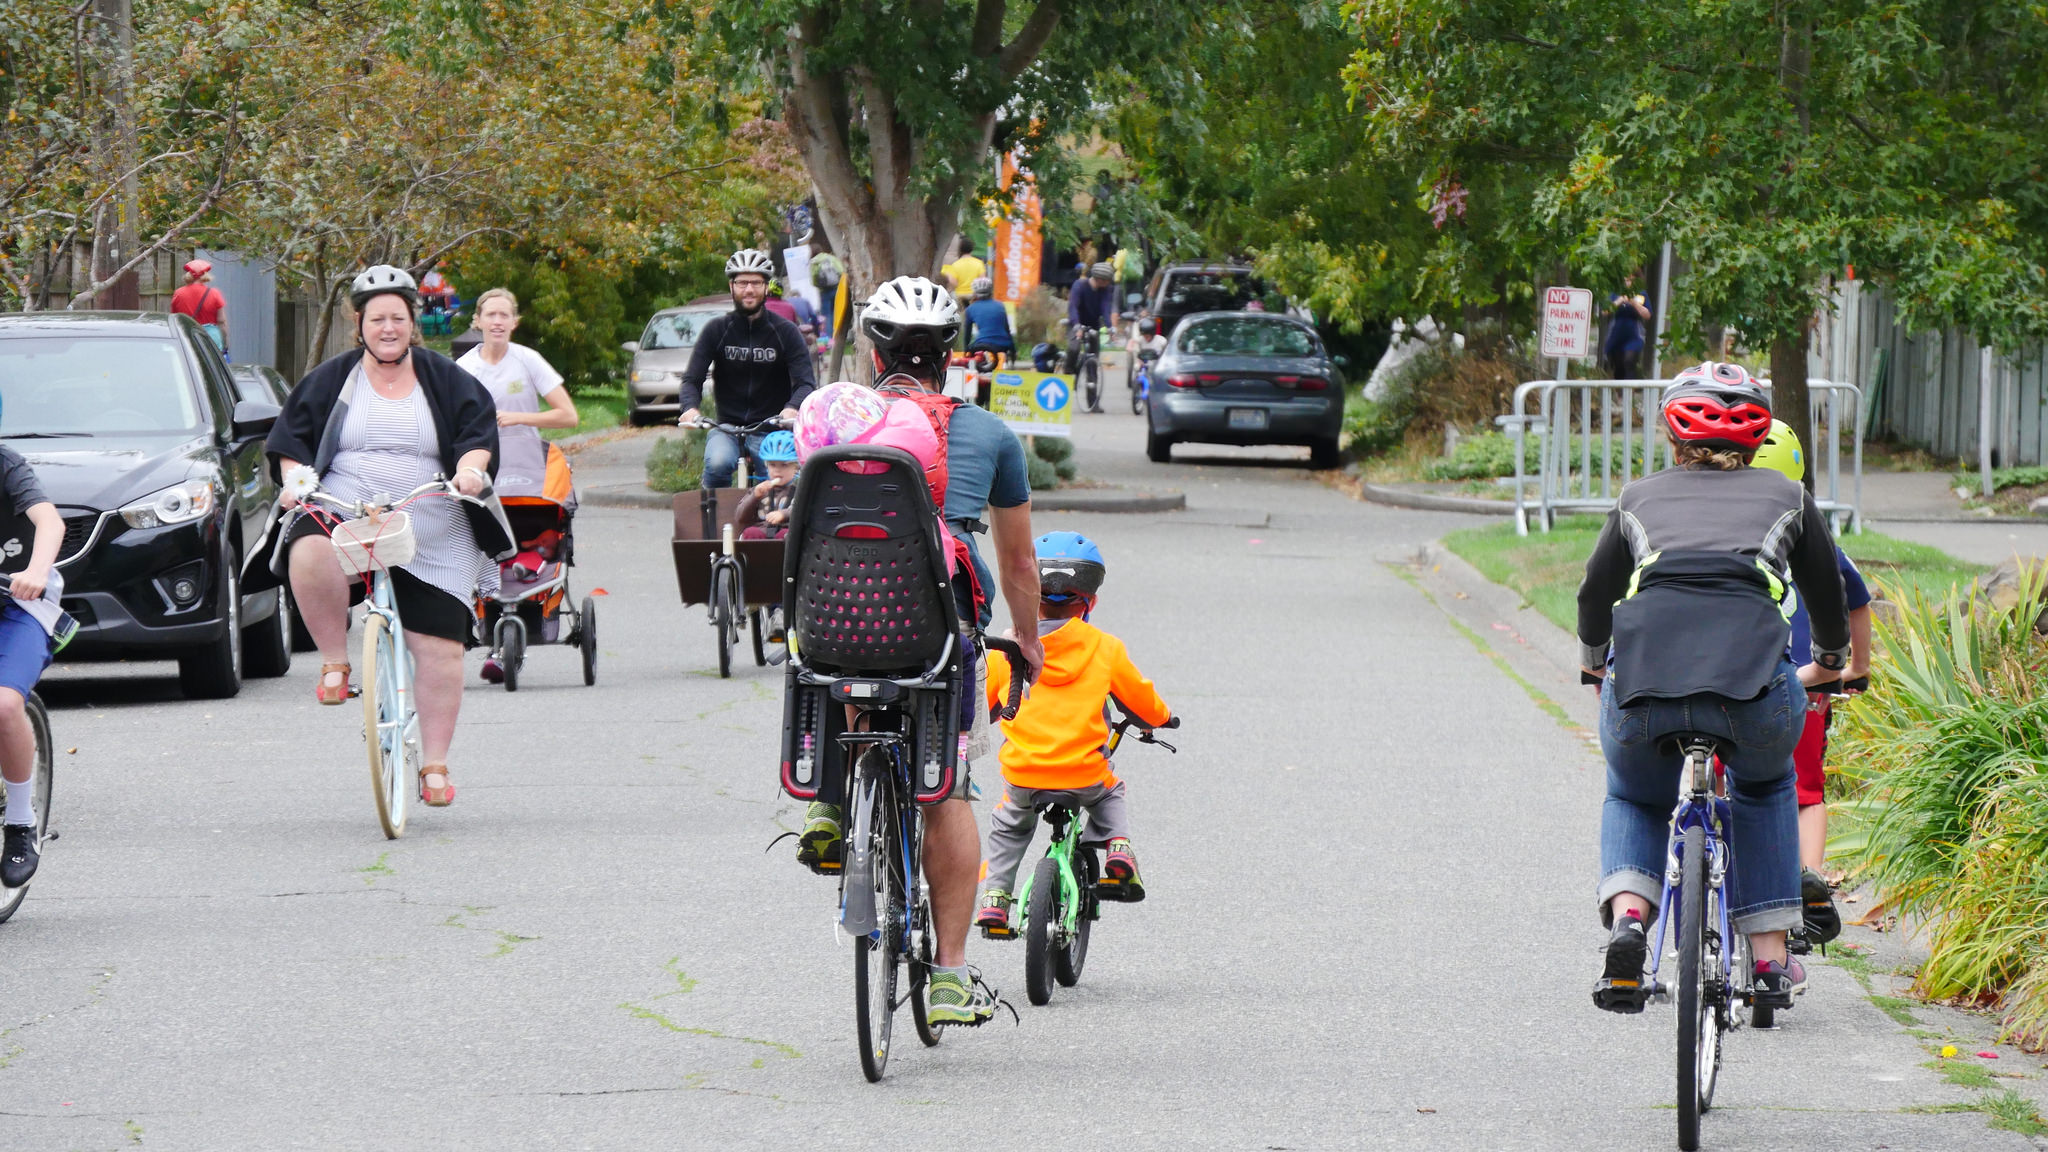cyclist_back: (1566, 355, 1847, 1137), (786, 275, 1045, 1087), (978, 529, 1198, 1026)
cyclist_front: (255, 265, 509, 842), (668, 237, 821, 680), (1035, 254, 1112, 416)
